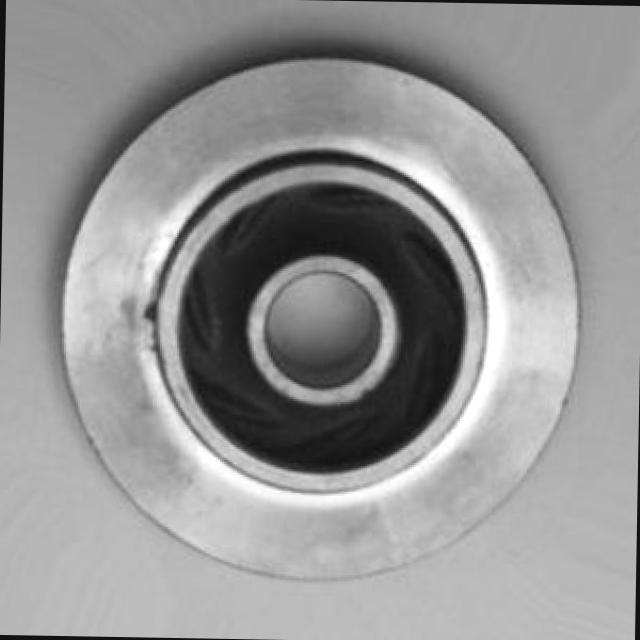Defect: (134, 295, 165, 330)
